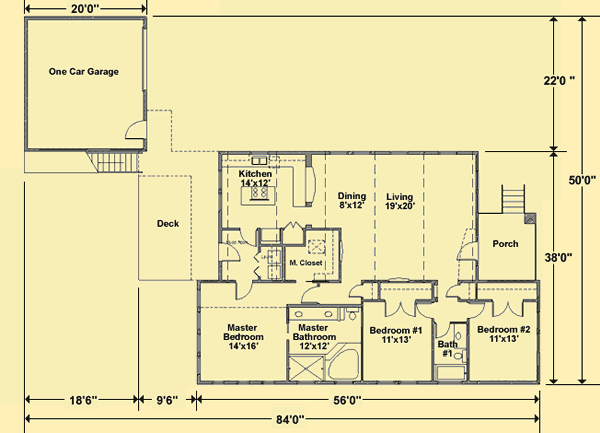door: (489, 297, 527, 319), (122, 116, 151, 143), (383, 297, 417, 320), (214, 239, 243, 265), (454, 240, 480, 264), (233, 277, 256, 303), (235, 225, 258, 249), (463, 299, 487, 321), (298, 282, 319, 306), (414, 298, 435, 320), (429, 320, 450, 339), (442, 281, 461, 301), (345, 282, 363, 299), (282, 220, 304, 232)
kitchen bar: (239, 182, 279, 209)
large sink: (450, 348, 473, 363), (342, 306, 362, 323)
small sink: (287, 306, 338, 323), (452, 323, 467, 352)
stairs: (81, 148, 143, 175), (498, 181, 530, 213)
tub: (435, 362, 469, 383)
twin sink: (246, 153, 271, 168)
windows: (195, 287, 205, 377), (138, 26, 151, 93), (209, 377, 251, 390)
